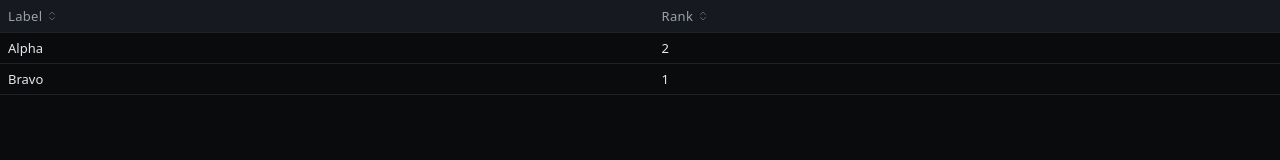
Test case: FindingsTable — primitive › clicking a row expands the panel returned by renderExpandPanel
The width and height of the screenshot is (1280, 160).
Click the text "Alpha". click: click(26, 48)
box: [8,38,43,56]
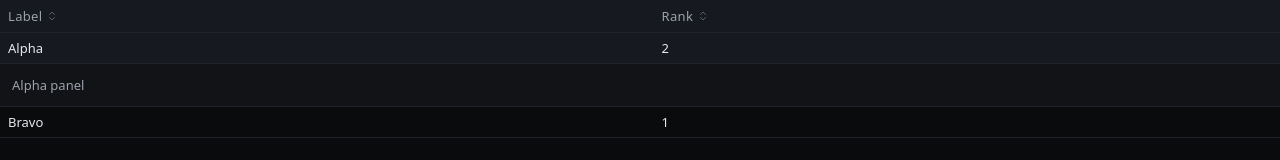
expect the text with test id "panel" reads "Alpha panel": met, box [12,76,84,94]
